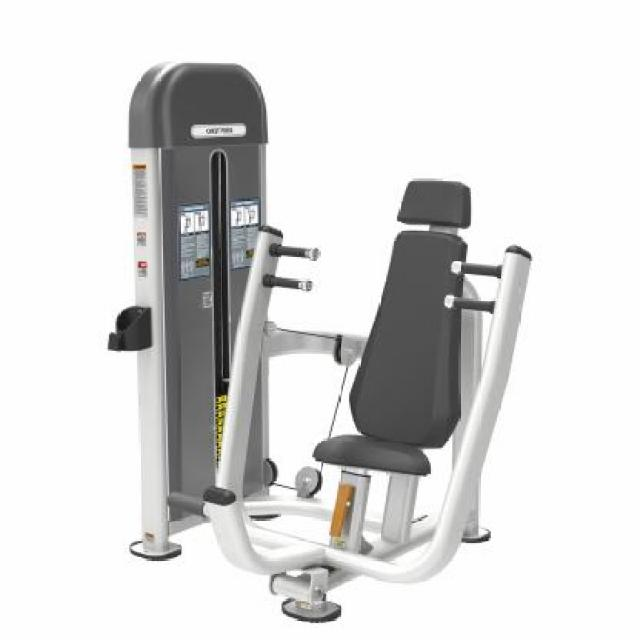Chest Press machine: (102, 48, 536, 628)
